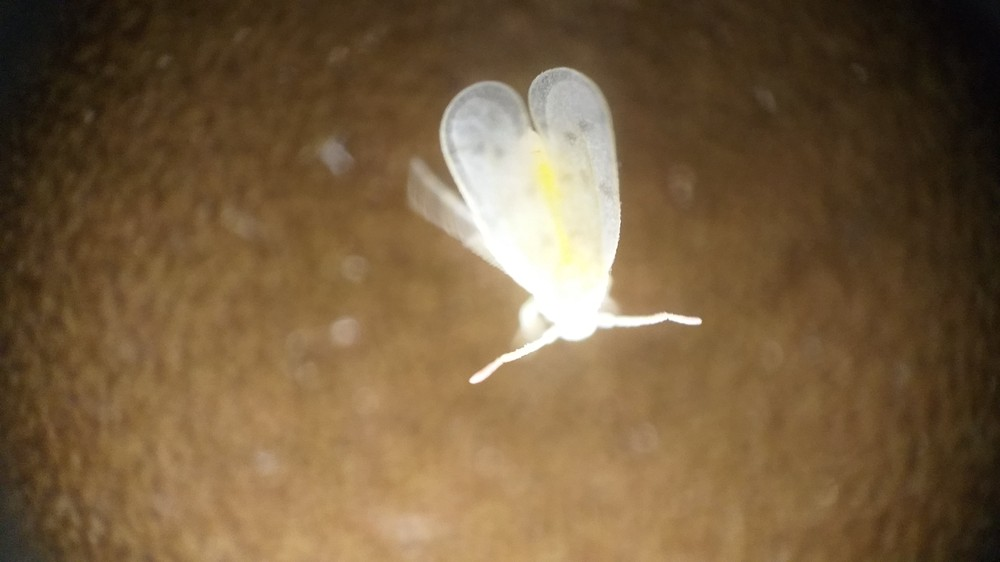Mosca Blanca: (389, 62, 727, 386)
